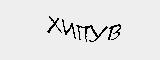В: (105, 22, 122, 43)
И: (60, 19, 76, 41)
П: (76, 24, 88, 45)
У: (88, 24, 108, 44)
Х: (46, 15, 61, 36)
